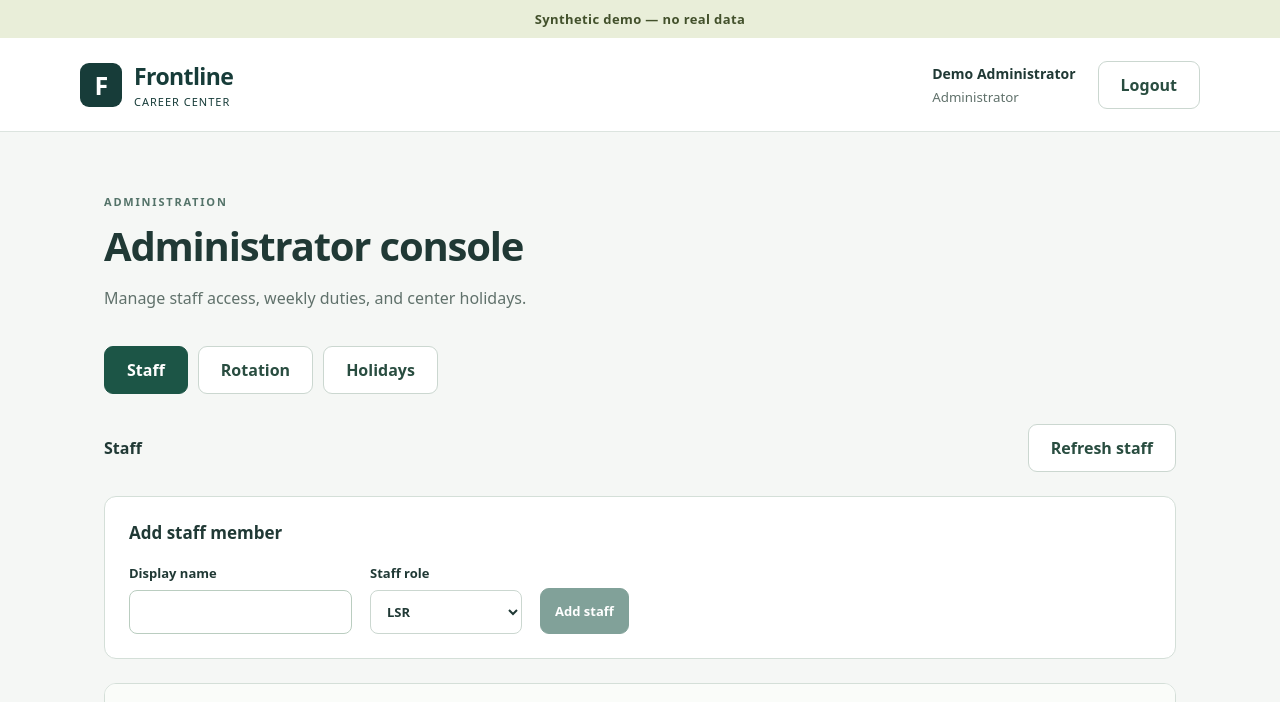
it: weekly grid edits active LSR duties and sends a complete seven-day grid
Step 1. Click the button "Rotation" → (255, 370), box [198, 346, 313, 394]
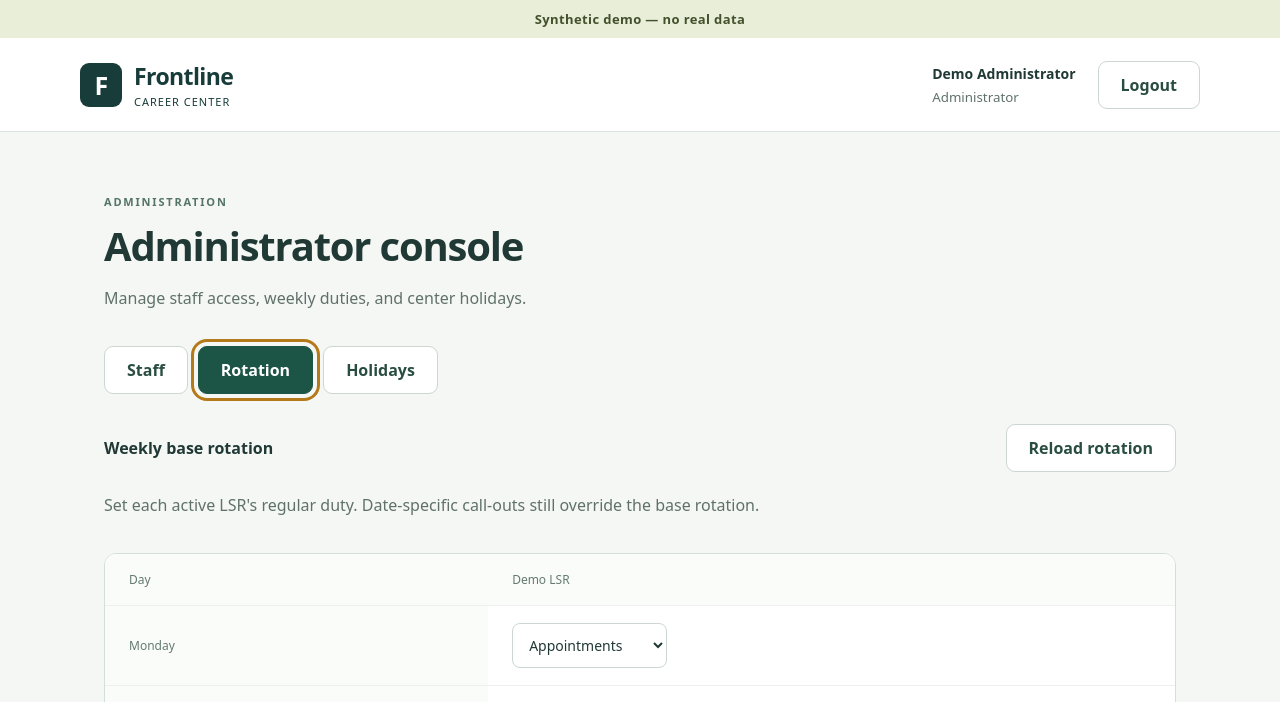
Expected: the number of dropdowns is 7
Step 2. Select "Resource room" in the dropdown named "Monday duty for Demo LSR" → (590, 646), box [512, 623, 667, 668]
(page scrolled)
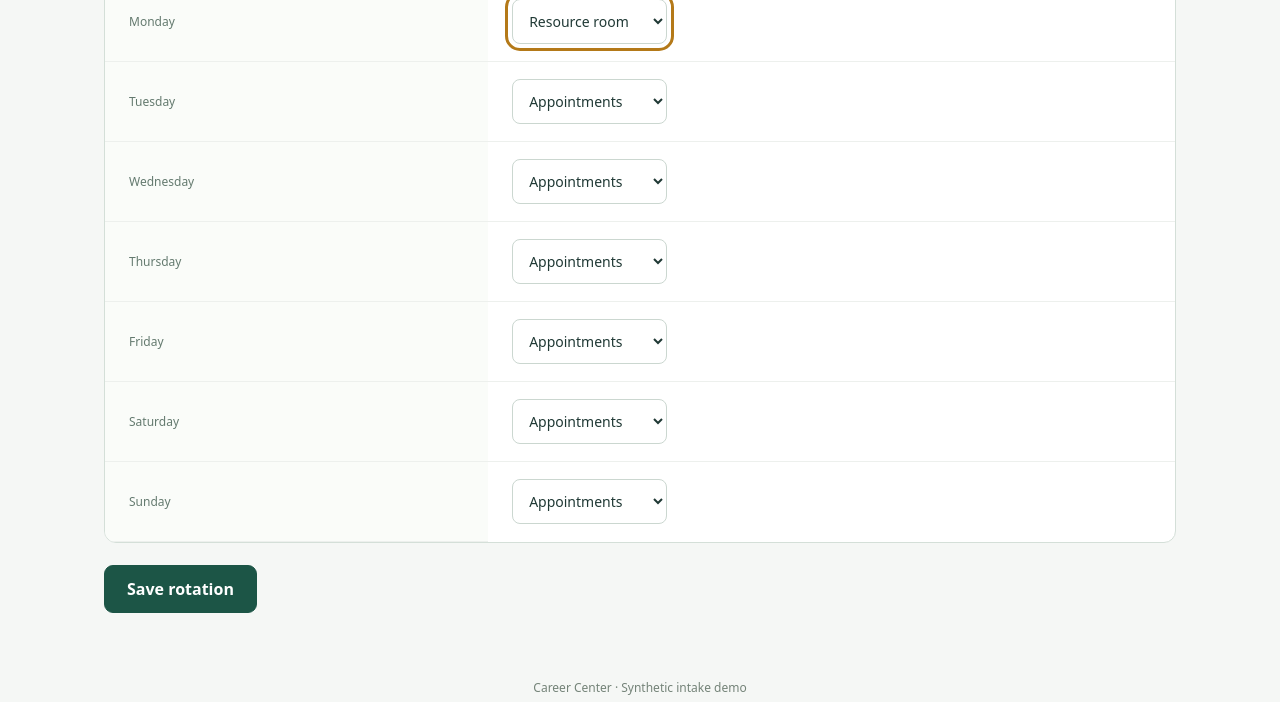
Step 3. Click the button "Save rotation" → (180, 589), box [104, 565, 257, 613]
(page scrolled)
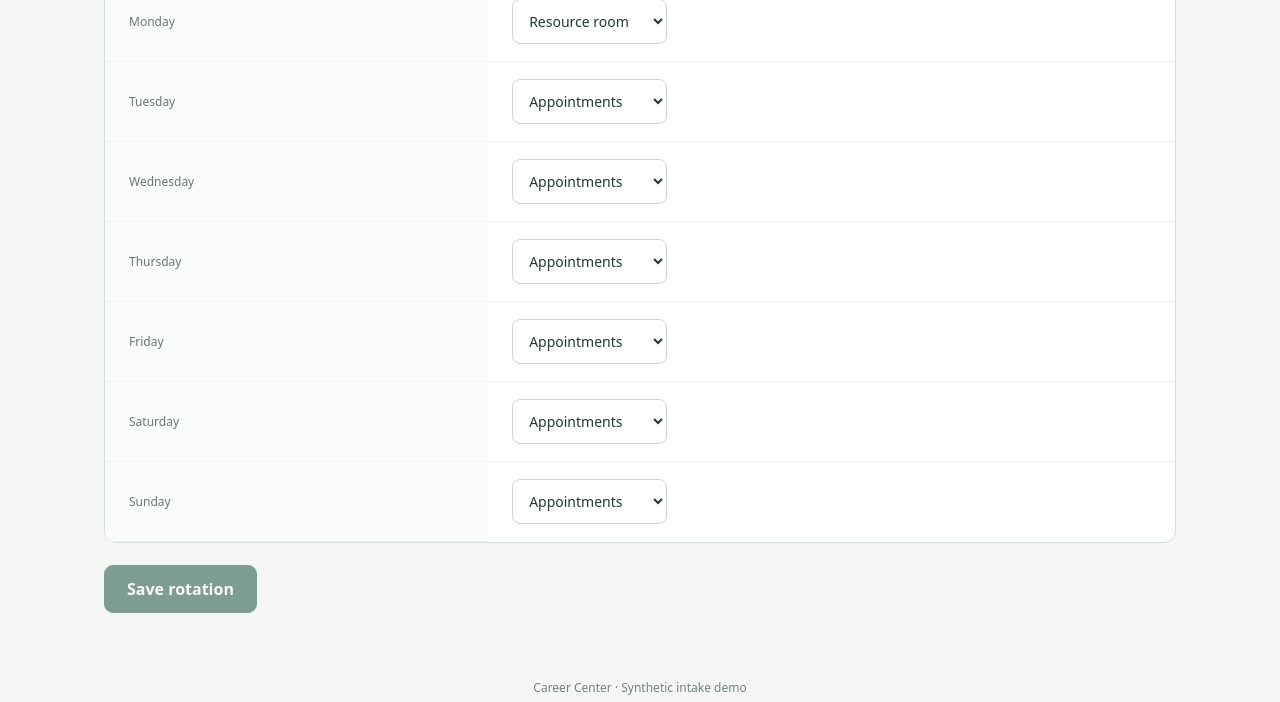
Expected: the button "Save rotation" is disabled, [104, 565, 257, 613]
